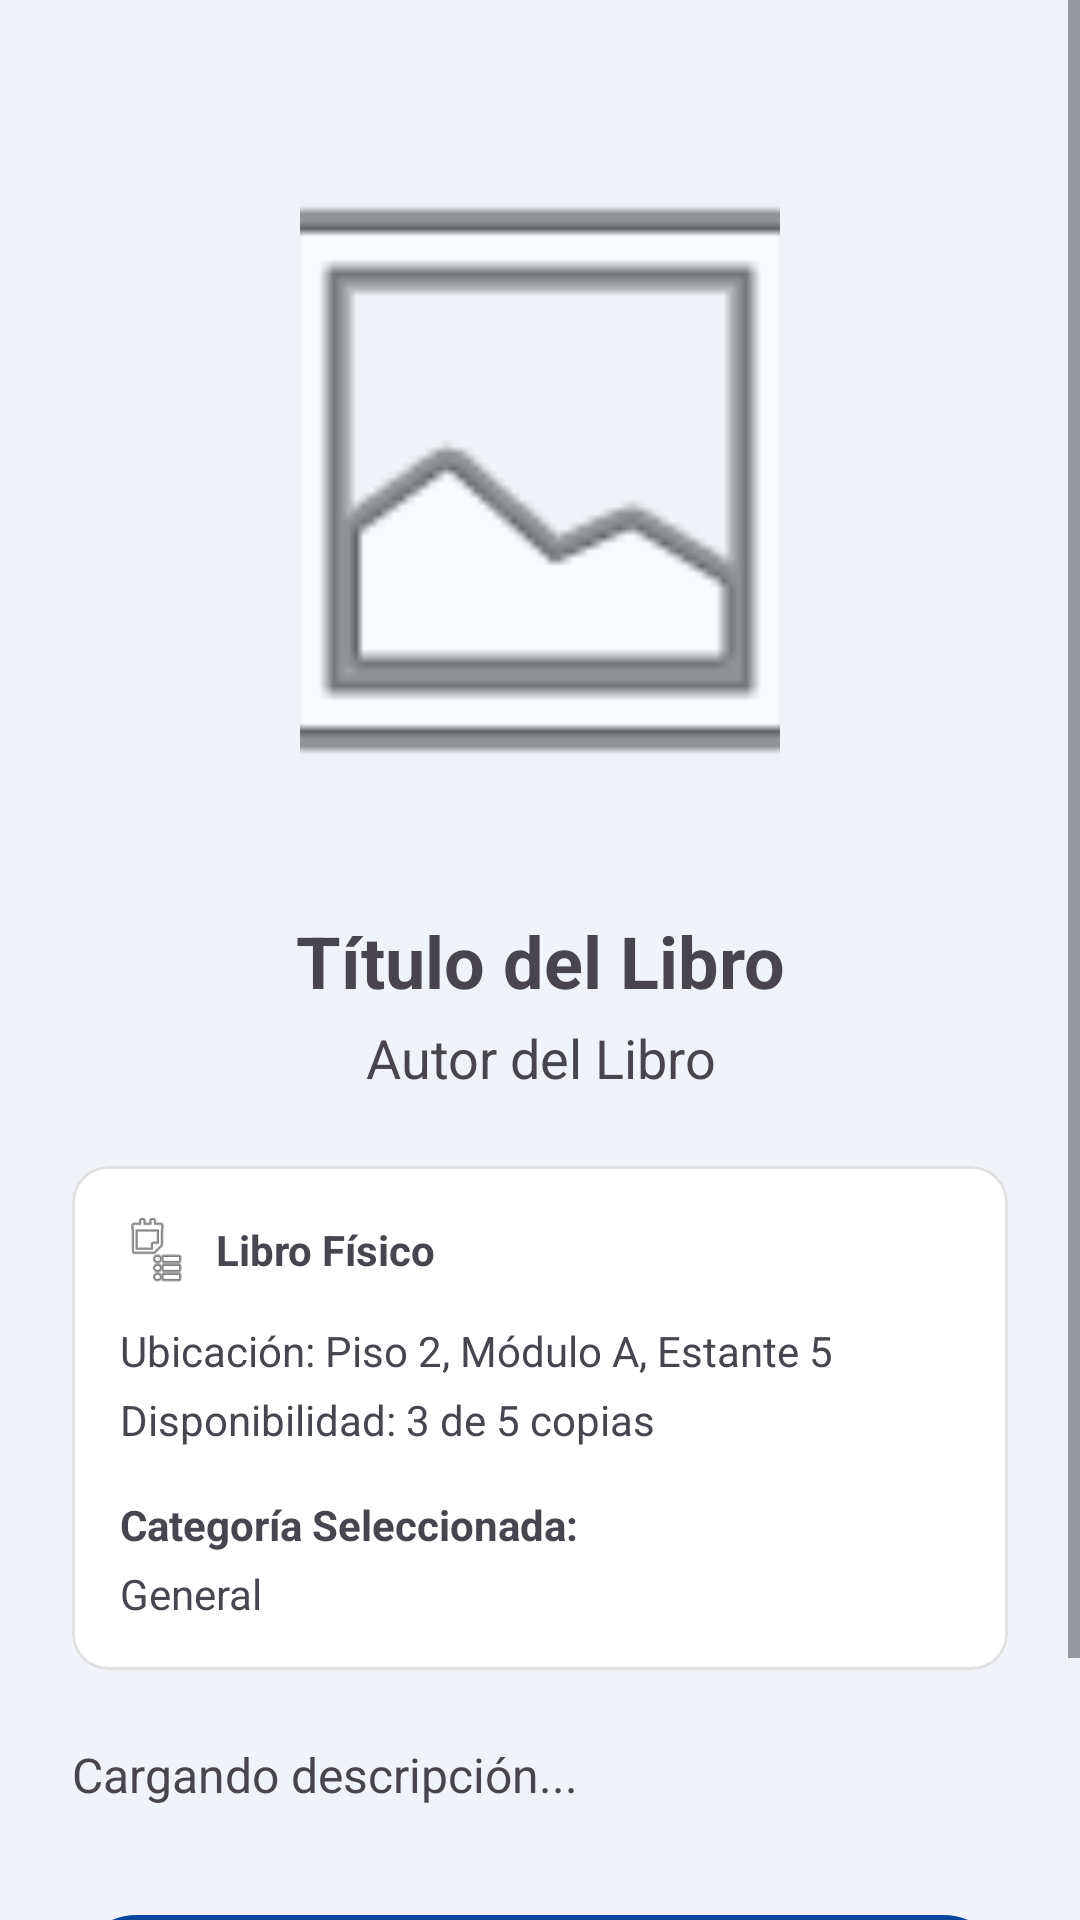

Icon click points for this 1080 × 1920 phone screenshot, format [x,y]:
agenda: [156,1250]
